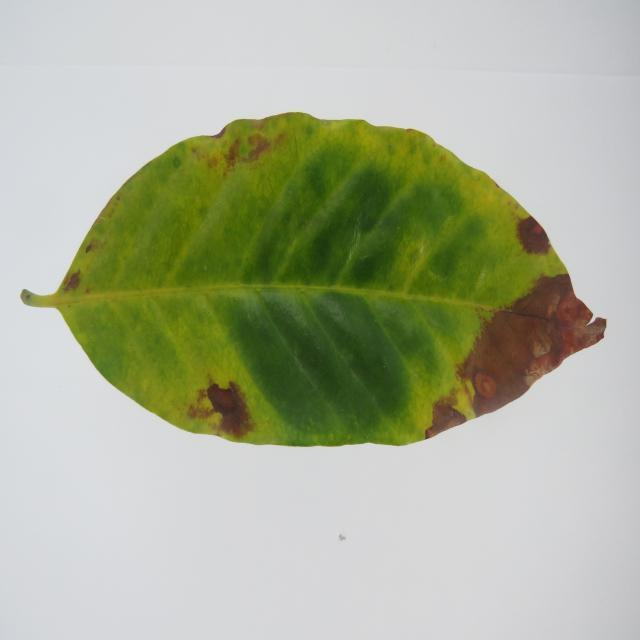DeficienciaNutricional-Potasio: (21, 113, 606, 447)
